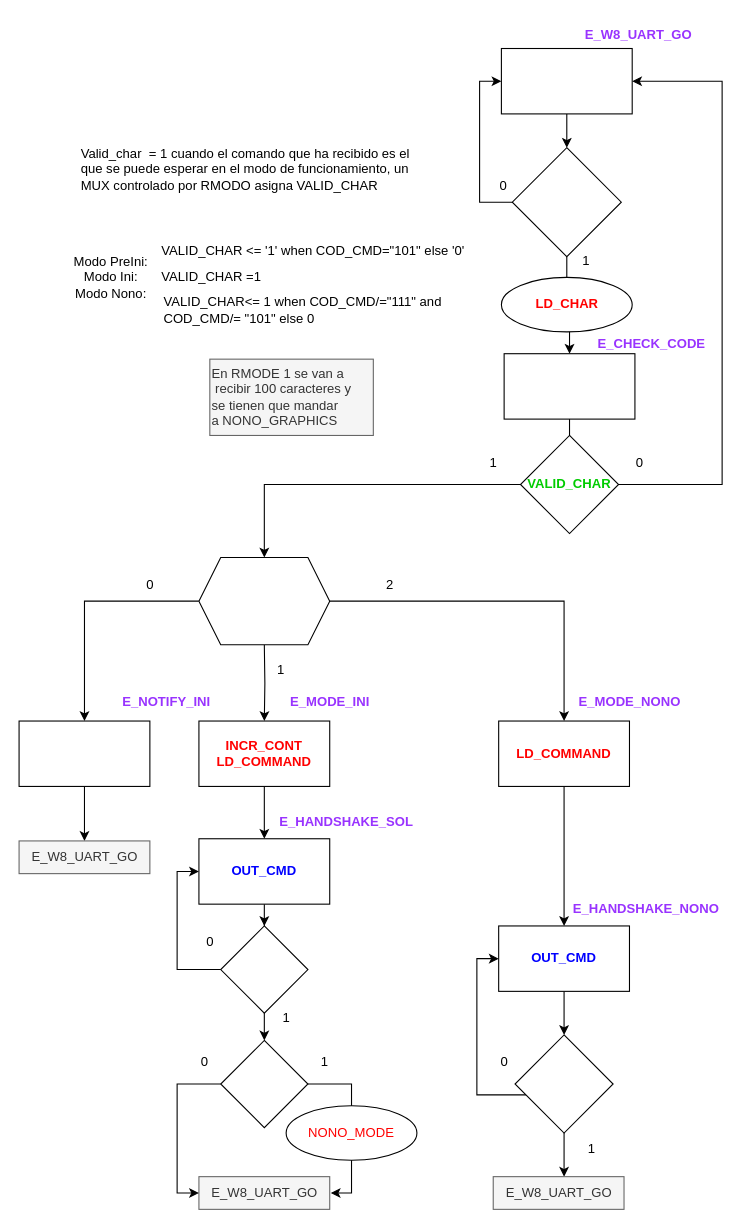
Some shapes in this 752 by 1228 pixel diagram are drawn without their labels. The box of each missing label's shape, as (x1, y1, x2, y2) in pixels:
CMD_PX_GO: (511, 147, 621, 257)
DONE_BIT: (220, 925, 308, 1013)
DONE_CMD: (514, 1034, 613, 1133)
END_SOL: (220, 1039, 308, 1128)
INI_NONO INI_MODE: (18, 720, 150, 786)
RMODE: (198, 556, 330, 645)
